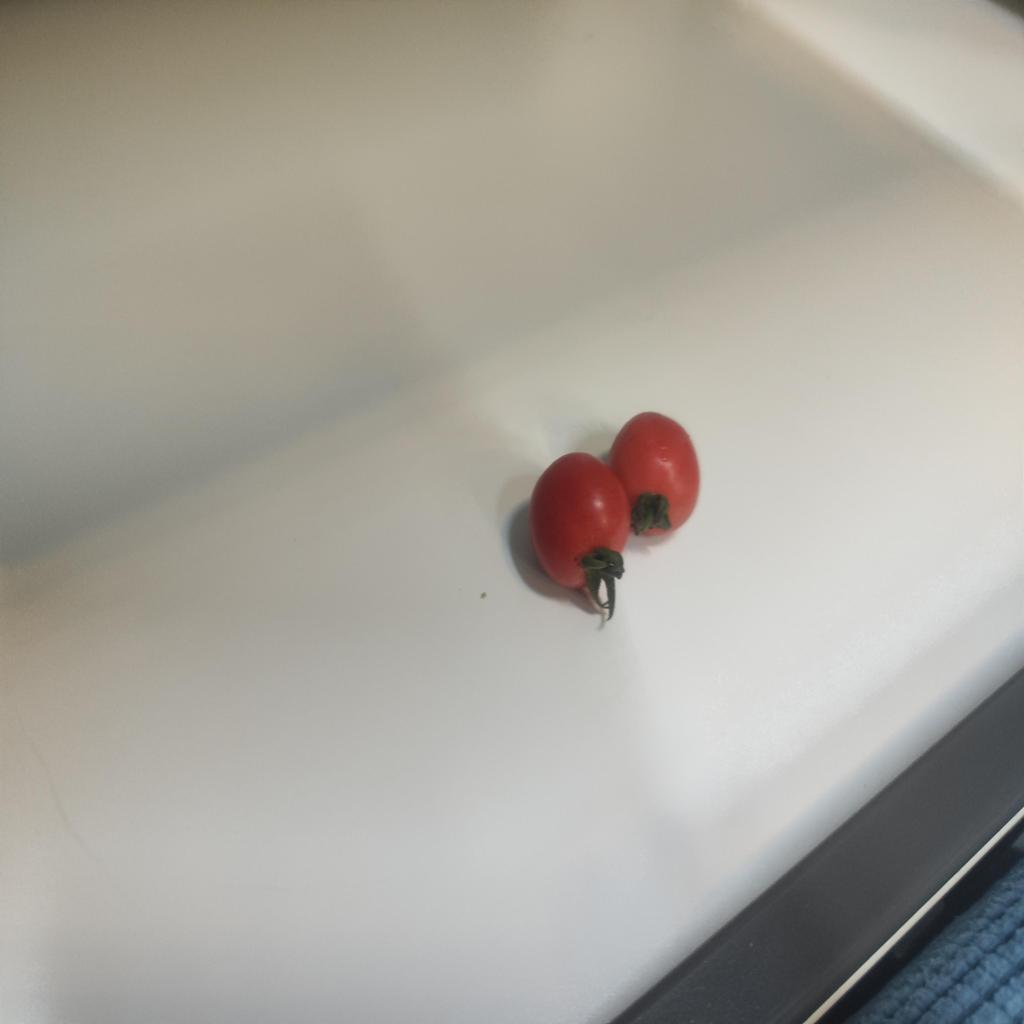tomato: (511, 452, 633, 591), (610, 414, 701, 541)
